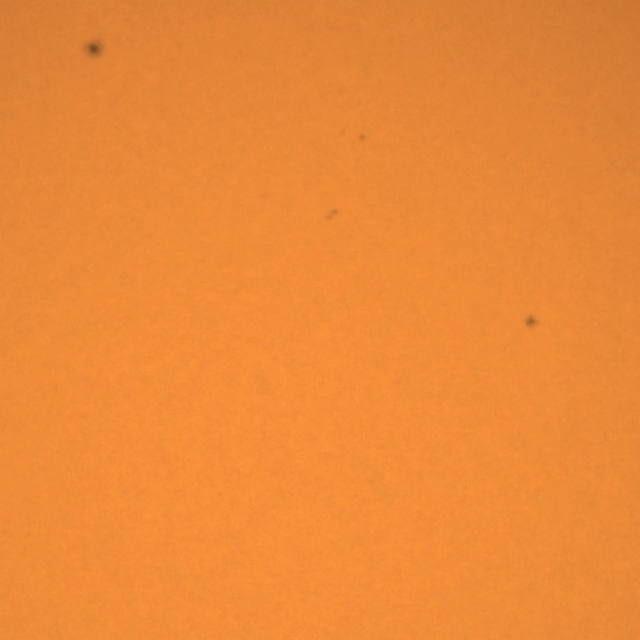sunspot: (82, 38, 106, 62), (522, 312, 540, 331), (324, 207, 341, 223), (357, 132, 368, 143)
